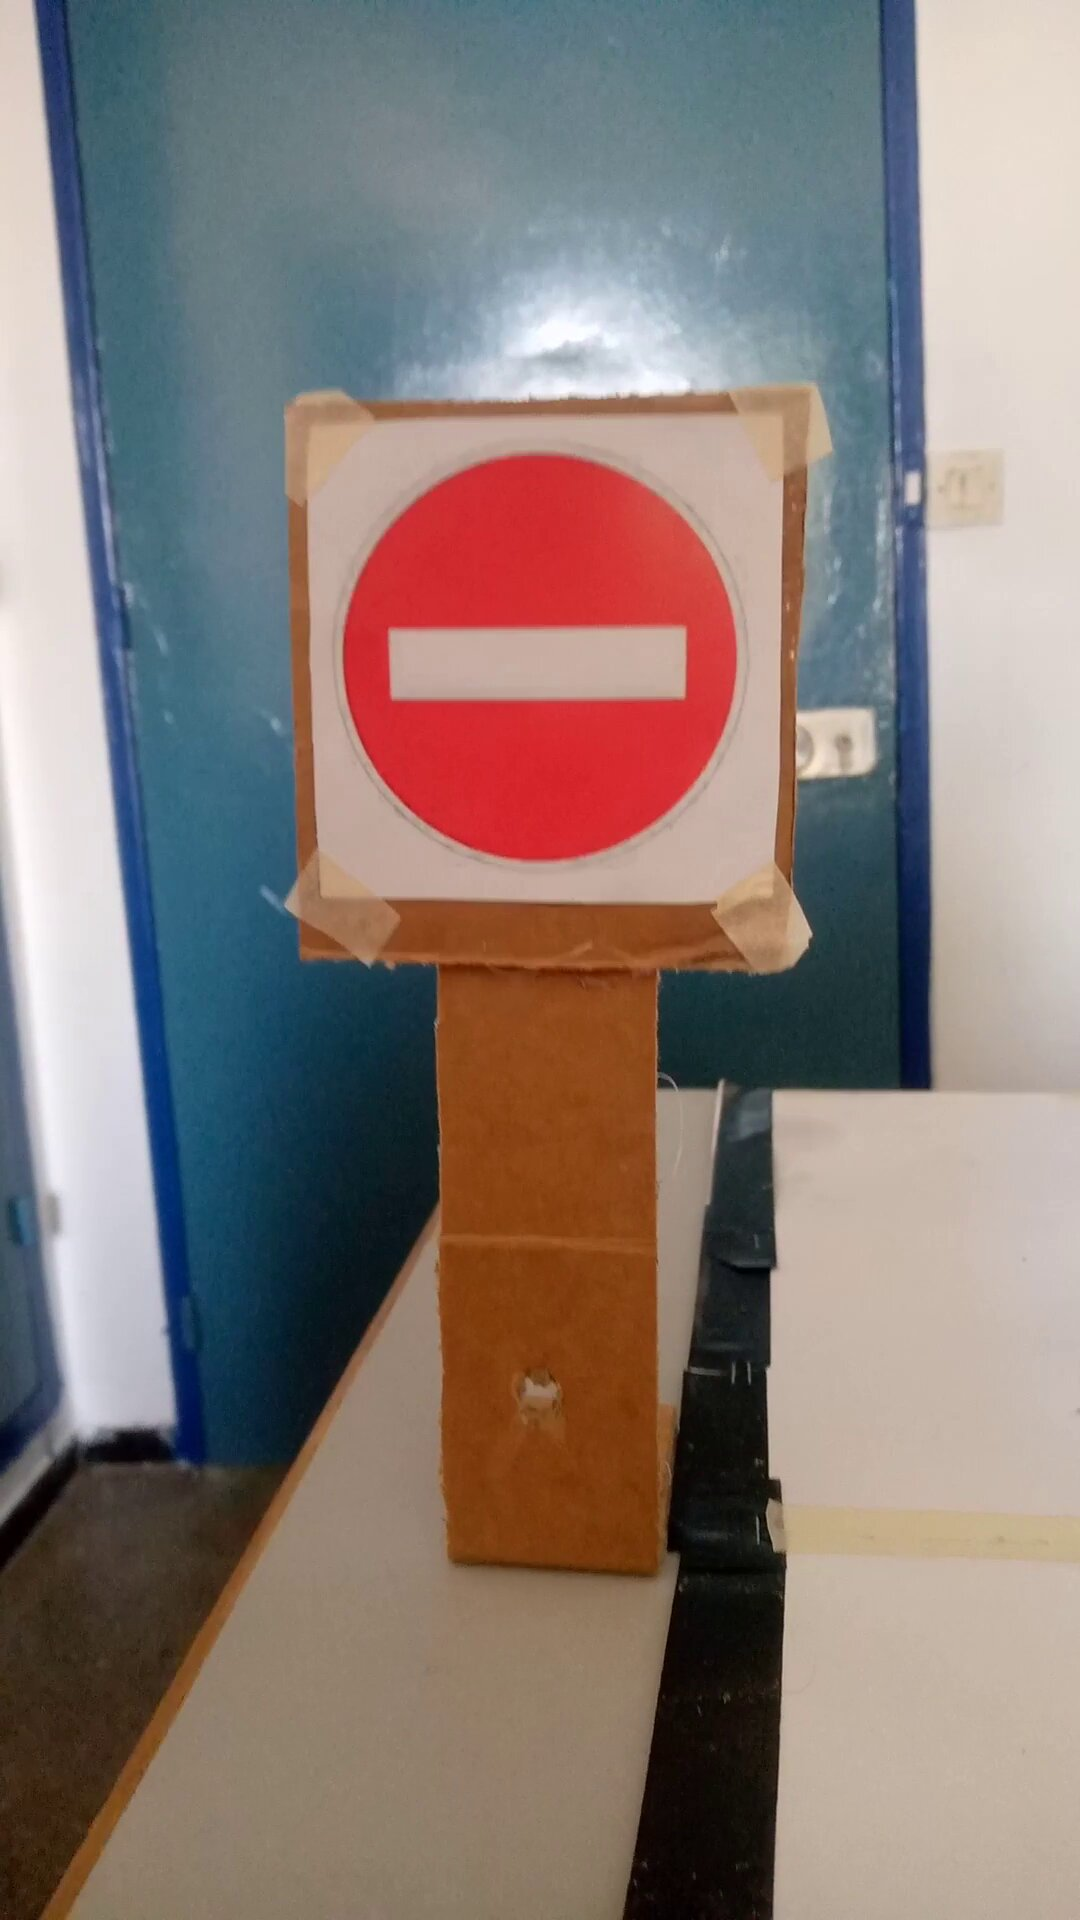panel010: (305, 423, 781, 920)
